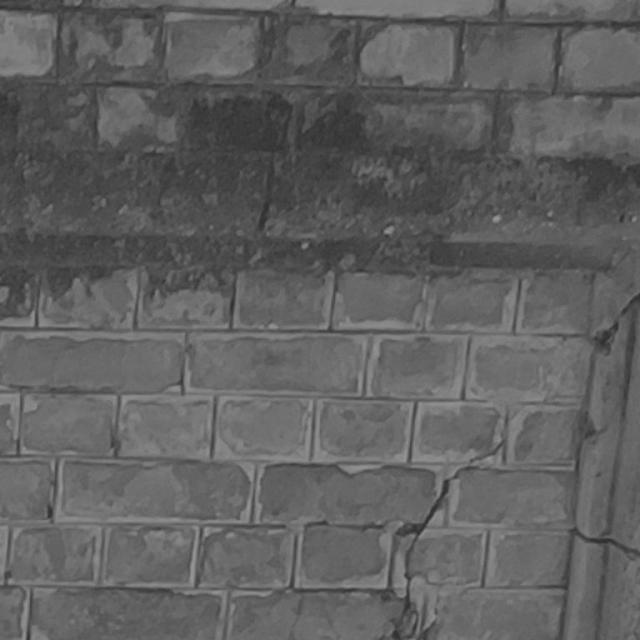crack: (391, 415, 508, 640)
